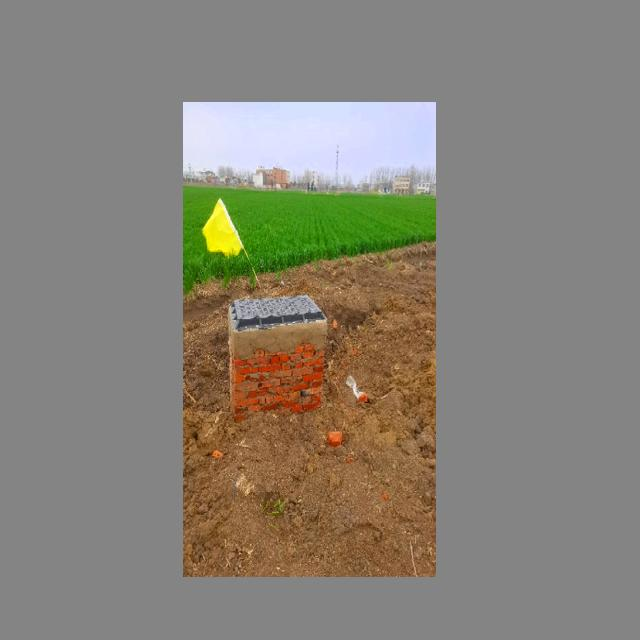good: (230, 289, 328, 326)
